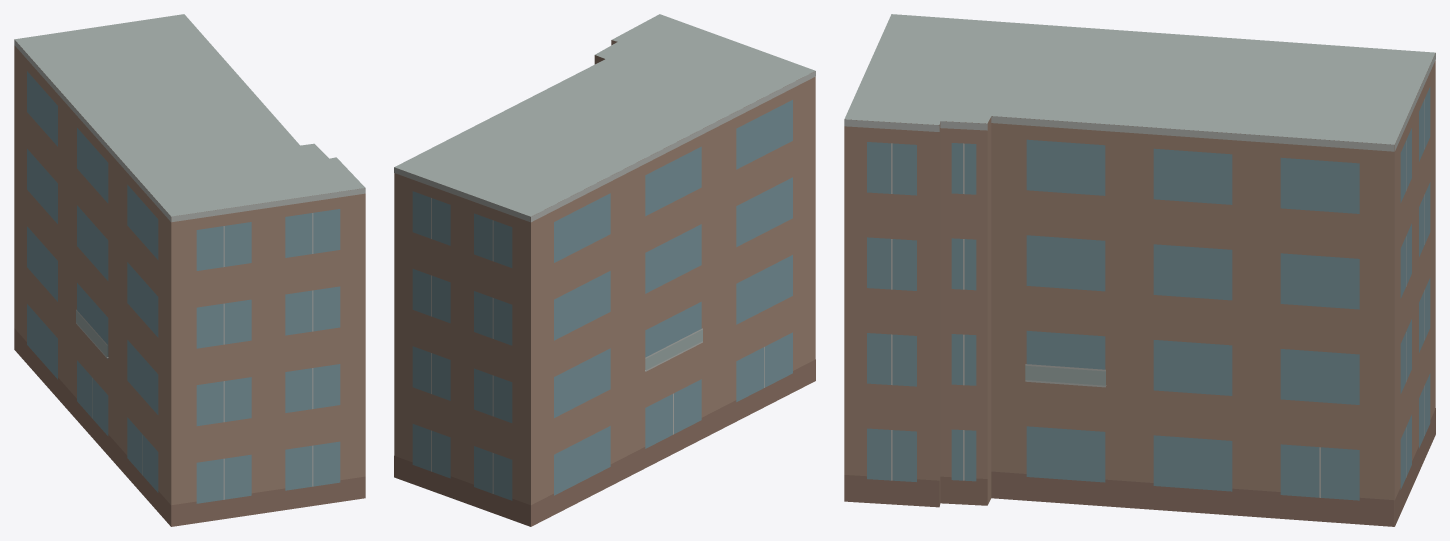
File: survey-upis-32502922.glb
3 views of the same model, side by side, from view 1: azimuth 30°, elevation 25°; view 2: azimuth 150°, elevation 25°; view 3: azimuth 270°, elevation 25° (orthographic). The views are drawn at different scales.
Visible parts, largest first — view 1: survey-upis-32502922.tmp; view 2: survey-upis-32502922.tmp; view 3: survey-upis-32502922.tmp.
Part boxes in pixels (x1,y1,x2,y2): survey-upis-32502922.tmp: (14,14,365,526); survey-upis-32502922.tmp: (394,14,815,526); survey-upis-32502922.tmp: (844,14,1435,526).
Bounding box in the file's own units: 9.76 × 13.3 × 18.66.
